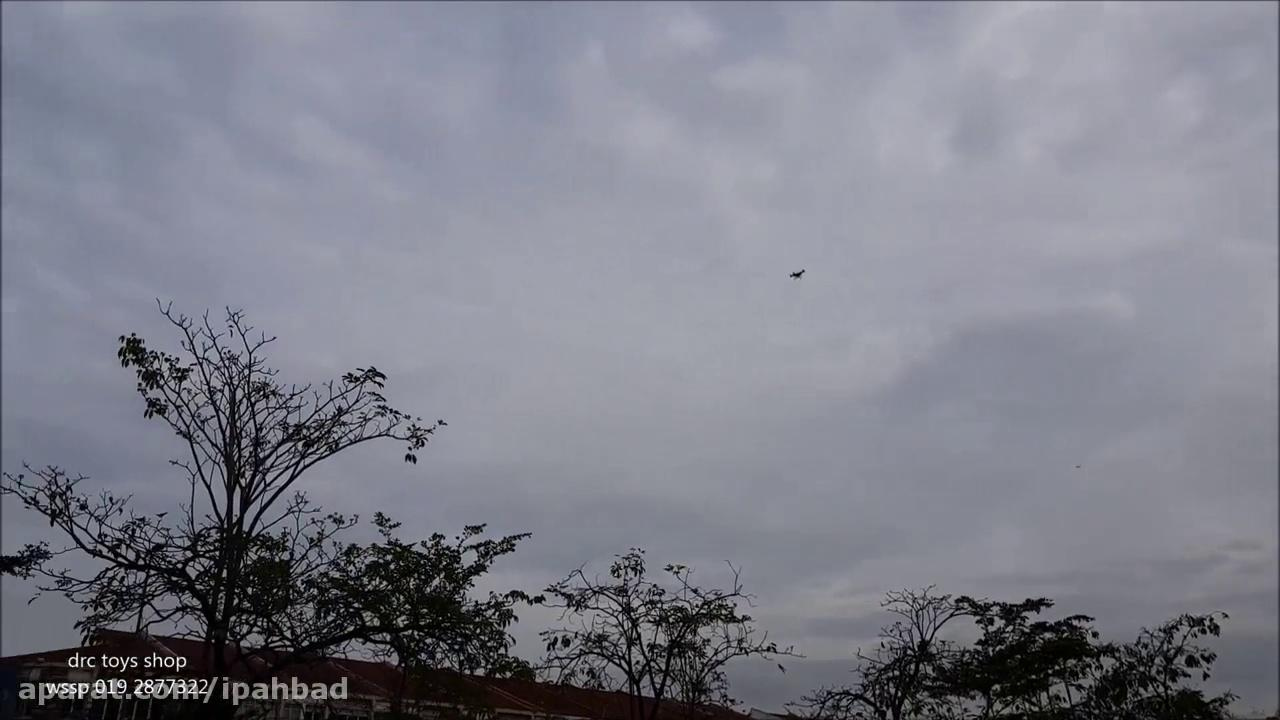drone: (787, 264, 810, 281)
